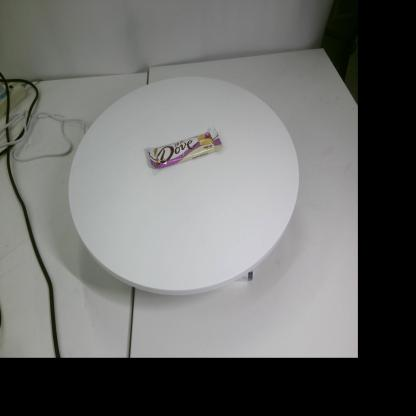Chocolate: (148, 126, 224, 169)
